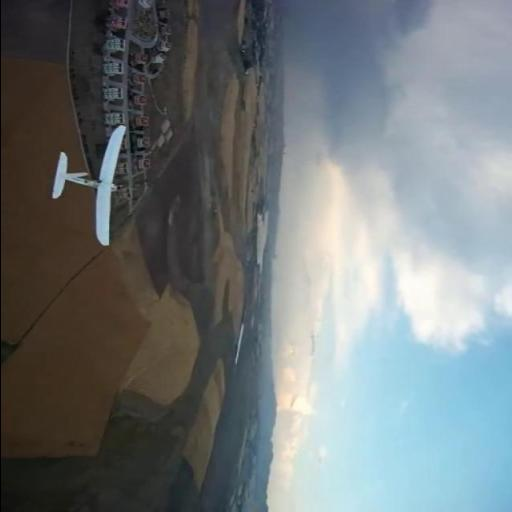uav: (51, 124, 130, 246)
